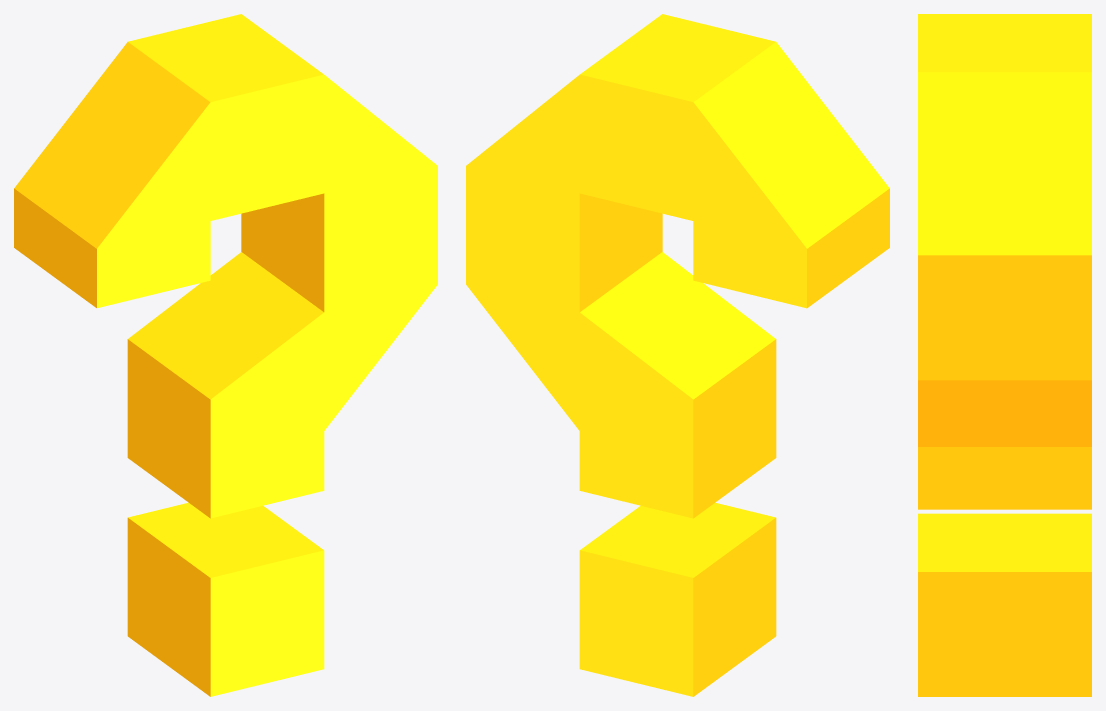
3 renders of one model, left to right at view 1: azimuth 30°, elevation 25°; view 2: azimuth 150°, elevation 25°; view 3: azimuth 270°, elevation 25°, orthographic. The views are drawn at different scales.
Visible parts, largest first — view 1: ?_DeltaBlock_Yellow; view 2: ?_DeltaBlock_Yellow; view 3: ?_DeltaBlock_Yellow.
Part boxes in pixels (<box>): ?_DeltaBlock_Yellow: <box>14,14,437,696</box>; ?_DeltaBlock_Yellow: <box>466,14,889,696</box>; ?_DeltaBlock_Yellow: <box>918,14,1091,696</box>.
Size of what is drawn, in the model's own units: 0.1071 by 0.1786 by 0.045.
2 materials, 2 textured.
